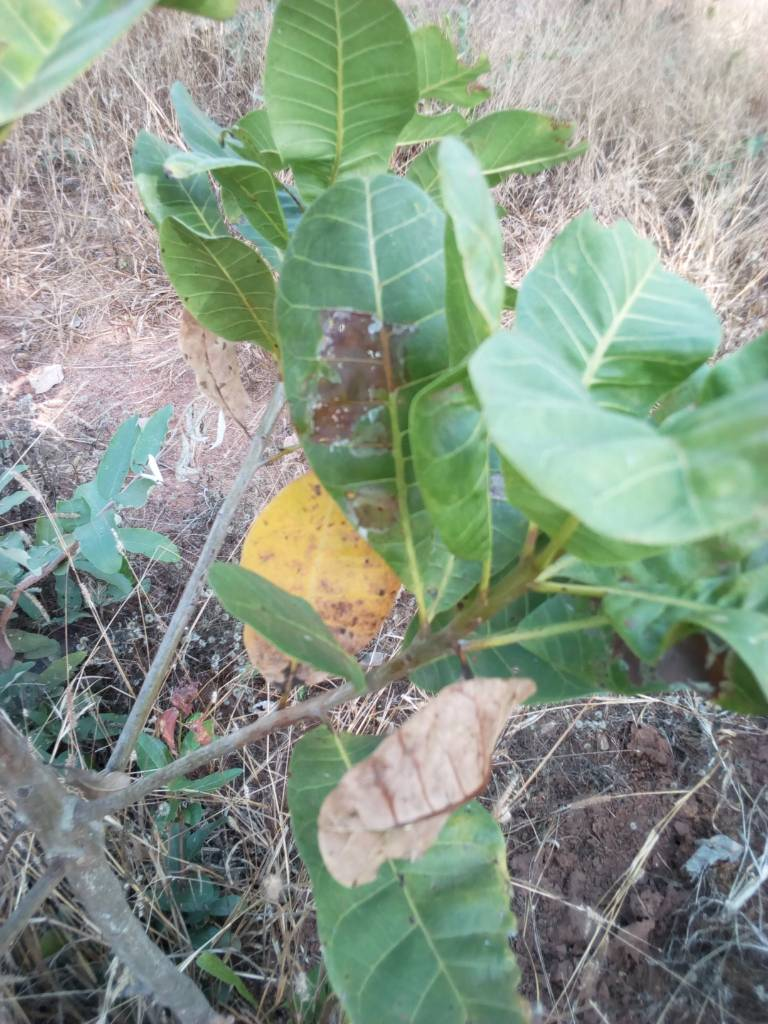Dysdercus wolkerii: (265, 160, 522, 602)
